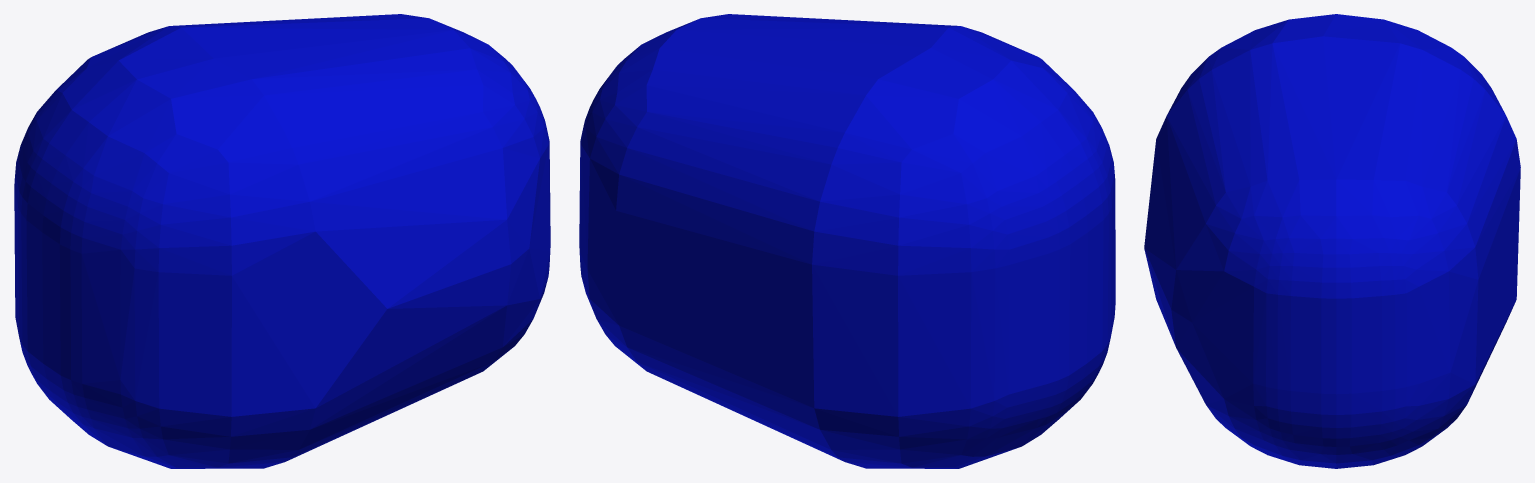
Rendered from COL_hollie_real_010_collision.dae.
3 views of the same model, side by side, from view 1: azimuth 30°, elevation 25°; view 2: azimuth 150°, elevation 25°; view 3: azimuth 270°, elevation 25° (orthographic). The views are drawn at different scales.
Parts seen in each view (by area): view 1: COL_hollie_real_010_collision; view 2: COL_hollie_real_010_collision; view 3: COL_hollie_real_010_collision.
Boxes of the visible parts, <box> form: COL_hollie_real_010_collision: <box>14,14,550,468</box>; COL_hollie_real_010_collision: <box>579,14,1115,468</box>; COL_hollie_real_010_collision: <box>1144,14,1520,468</box>.
Bounding box in the file's own units: 0.0881 × 0.0651 × 0.0681.
